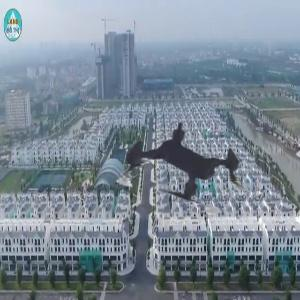drone: (90, 67, 288, 265)
